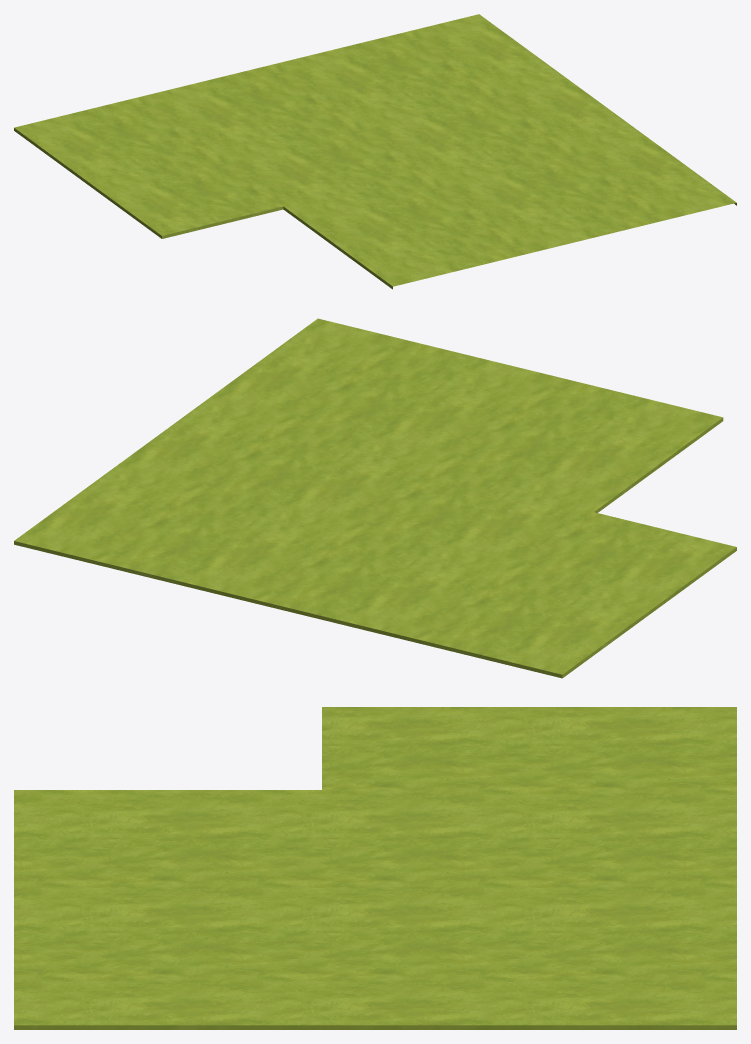
The model's file is TempleTile_O.fbx.
3 views of the same model, one above another, from view 1: azimuth 30°, elevation 25°; view 2: azimuth 150°, elevation 25°; view 3: azimuth 270°, elevation 25° (orthographic). The views are drawn at different scales.
Visible parts, largest first — view 1: TempleTile_O; view 2: TempleTile_O; view 3: TempleTile_O.
Boxes of the visible parts, bbox=[...] form: TempleTile_O: bbox=[14, 14, 736, 289]; TempleTile_O: bbox=[14, 318, 736, 678]; TempleTile_O: bbox=[14, 707, 736, 1029].
Size of the model in its own units: 2808 by 18.13 by 2695.
1 material, 1 textured.
